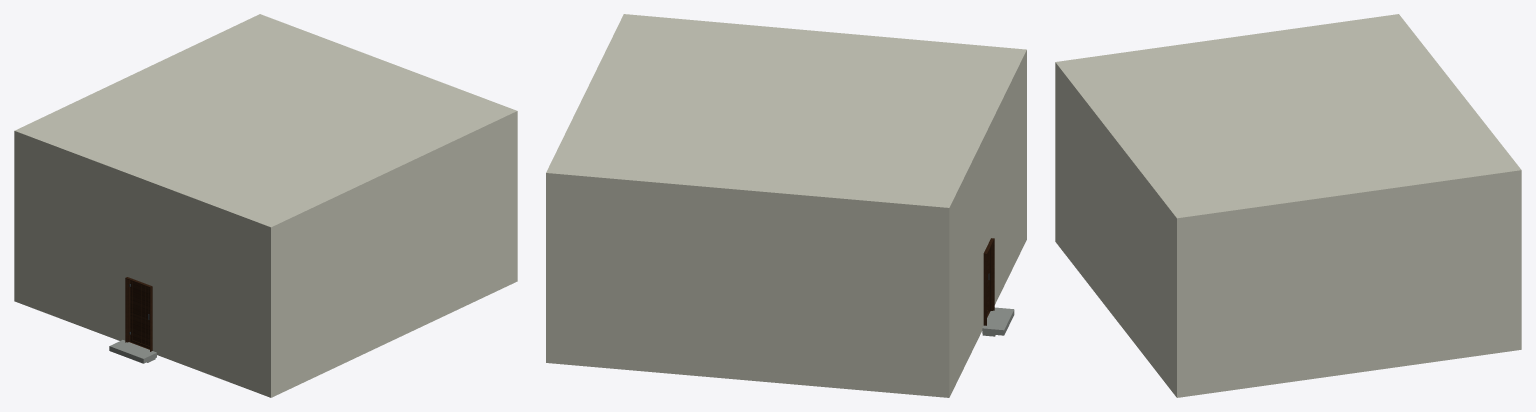
The model's file is building.glb.
3 views of the same model, side by side, from view 1: azimuth 30°, elevation 25°; view 2: azimuth 150°, elevation 25°; view 3: azimuth 270°, elevation 25° (orthographic). The views are drawn at different scales.
Parts seen in each view (by area): view 1: building/runtime/wall, building/runtime/roof_slab, building/runtime/door_board, building/runtime/entrance_step, building/runtime/door_moulding; view 2: building/runtime/wall, building/runtime/roof_slab, building/runtime/entrance_step, building/runtime/door_moulding; view 3: building/runtime/wall, building/runtime/roof_slab.
Part boxes in pixels (x1,y1,x2,y2): building/runtime/wall: [14, 14, 517, 397]; building/runtime/roof_slab: [14, 14, 507, 232]; building/runtime/door_board: [132, 282, 149, 346]; building/runtime/entrance_step: [109, 340, 156, 363]; building/runtime/door_moulding: [125, 277, 152, 351]; building/runtime/wall: [546, 14, 1026, 397]; building/runtime/roof_slab: [546, 14, 1026, 213]; building/runtime/entrance_step: [982, 307, 1014, 336]; building/runtime/door_moulding: [984, 238, 994, 325]; building/runtime/wall: [1055, 14, 1521, 397]; building/runtime/roof_slab: [1055, 14, 1521, 223].
Bounding box in the file's own units: 13.66 × 5.76 × 13.18.
Materials: 4 (1 with a texture image).
